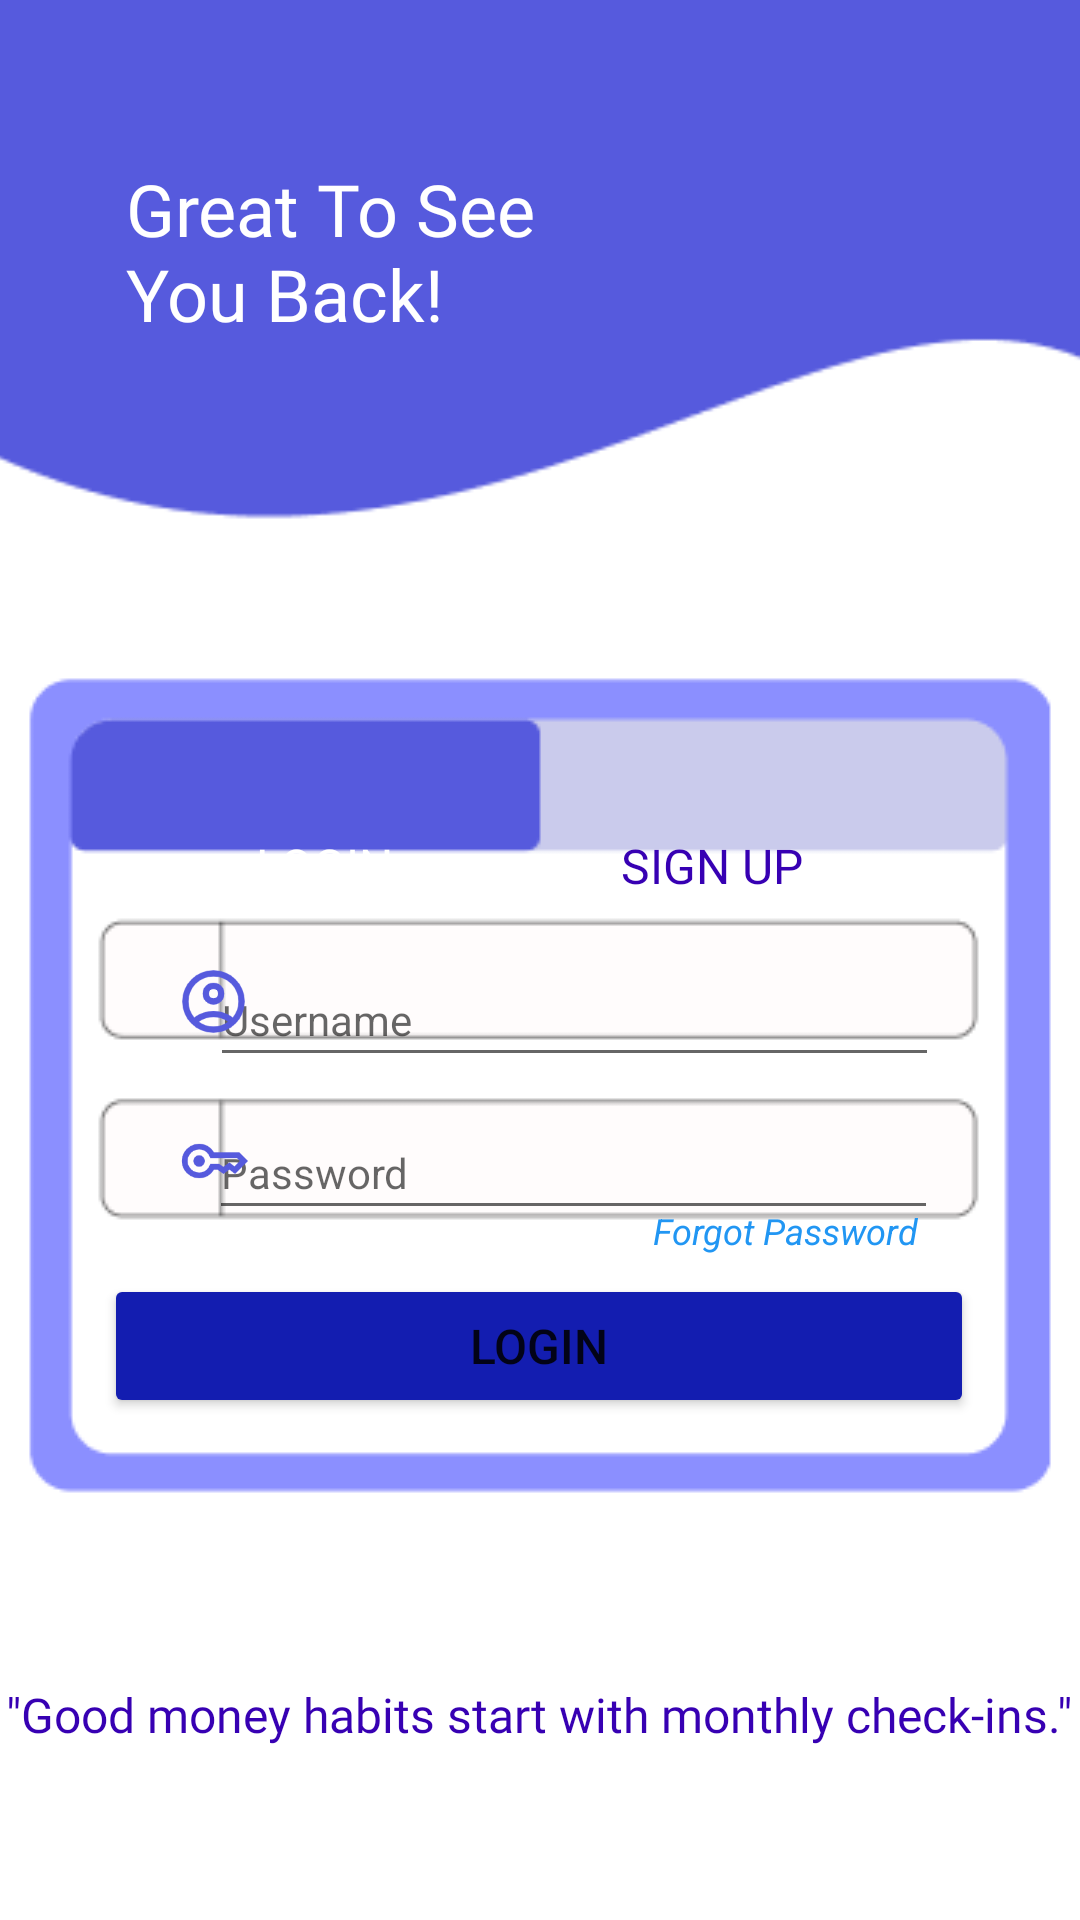

Icons on this 1080w x 1920h Android screen, each with its box as (x1, y1, x2, y2):
keyb: (182, 1122, 248, 1200)
profileb: (176, 961, 251, 1040)
